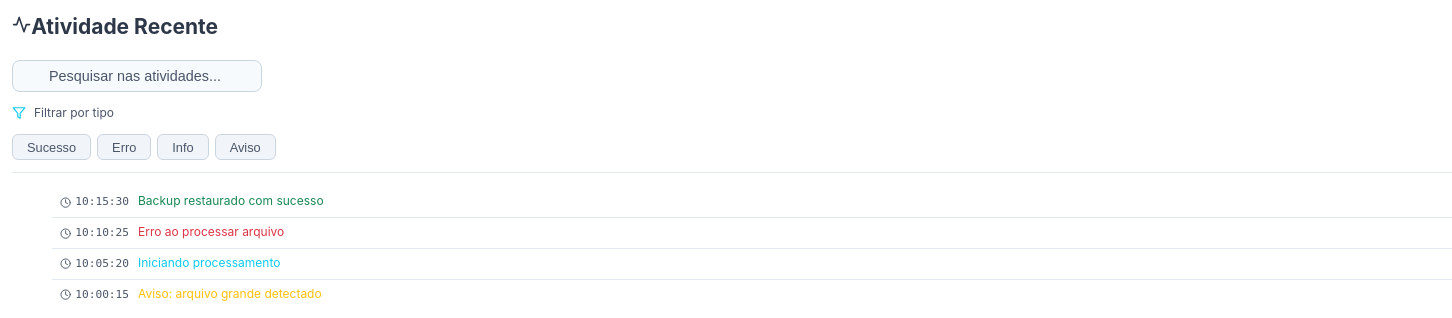
Scenario: RecentActivityList Component › filtra atividades por tipo corretamente
# Clicar no botão de filtro de erro
Click the button "Erro" at x=124, y=147, box [97,134,151,160]
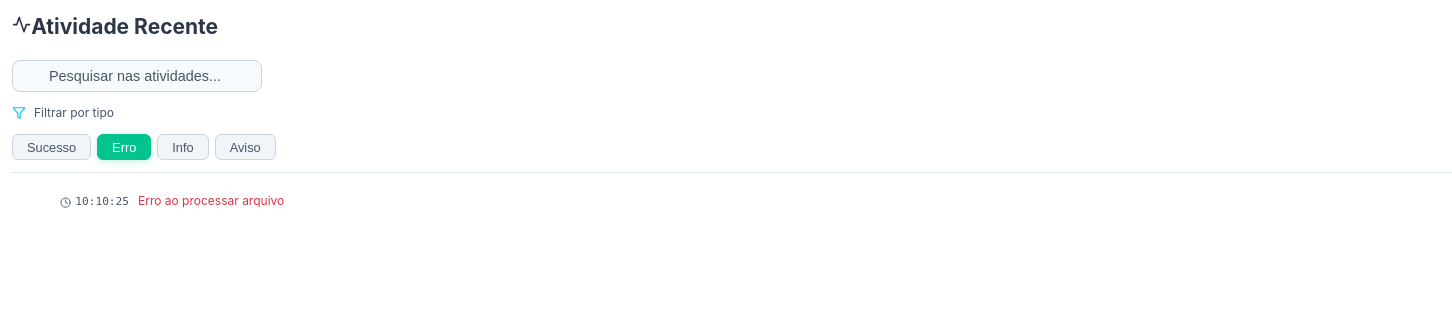
expect the text "Backup restaurado com sucesso" is gone: met
expect the text "Iniciando processamento" is gone: met
expect the text "Aviso: arquivo grande detectado" is gone: met
# Clicar no botão de filtro de sucesso também
Click the button "Sucesso" at x=52, y=147, box [12,134,91,160]
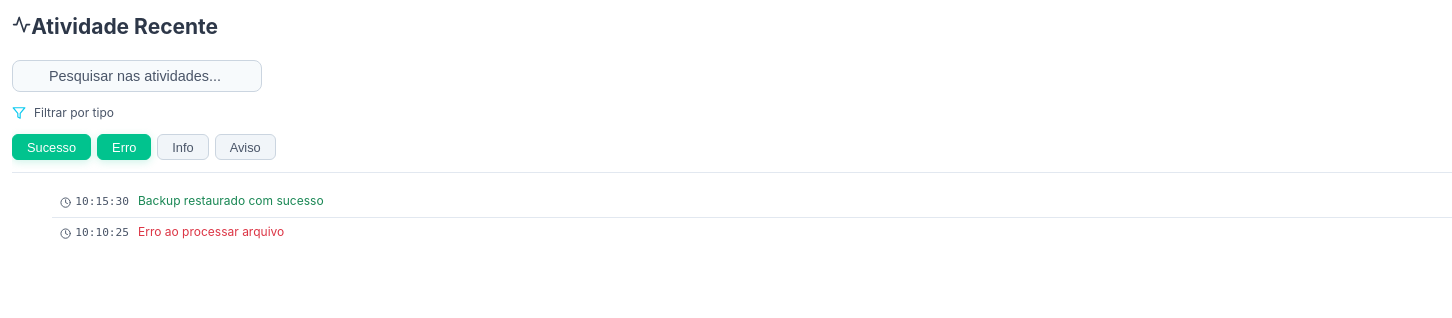
expect the text "Erro ao processar arquivo" is shown: met, box [138,224,284,239]
expect the text "Backup restaurado com sucesso" is shown: met, box [138,193,324,208]
